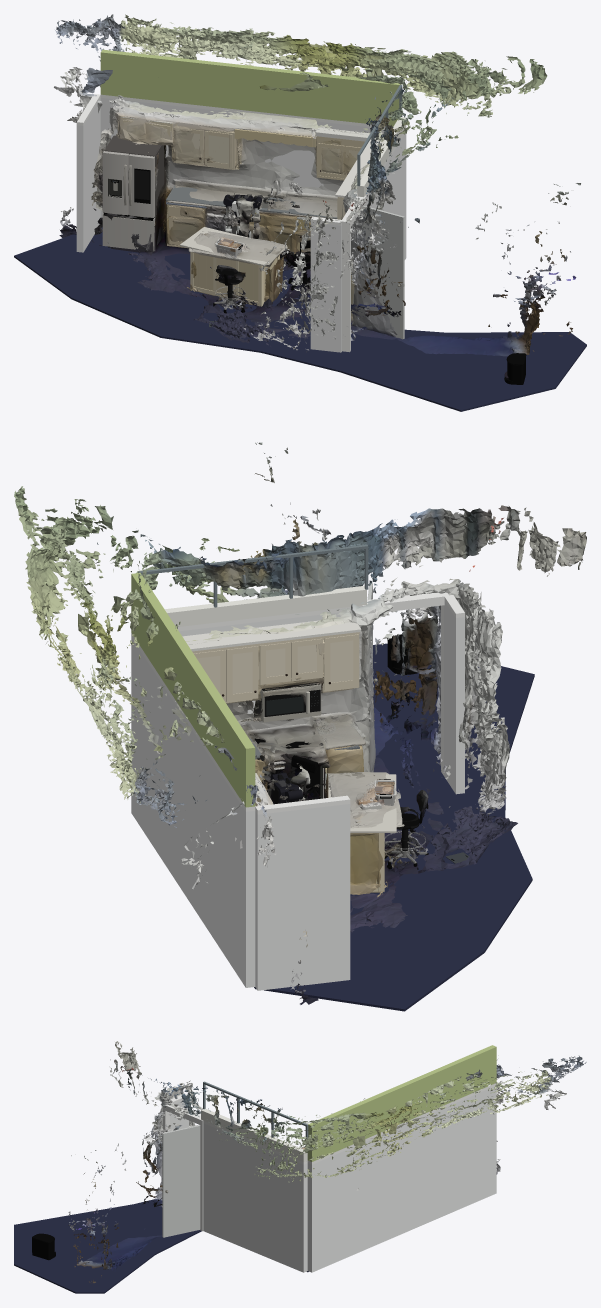
3 views of the same model, one above another, from view 1: azimuth 30°, elevation 25°; view 2: azimuth 150°, elevation 25°; view 3: azimuth 270°, elevation 25° (orthographic). The views are drawn at different scales.
Visible parts, largest first — view 1: static_scene, authored__0__18, authored__0__15, authored__0__4, authored__37__14, upper_cabinet_row_range_wall, authored__0__6, authored__0__17, kitchen_island, authored__0__14, authored__20__2, authored__20__23 (+15 smaller); view 2: static_scene, authored__0__18, authored__0__17, authored__0__6, authored__0__15, kitchen_island, authored__0__12, authored__0__4, authored__32__0, authored__32__11, authored__32__2, authored__32__3 (+8 smaller); view 3: authored__0__17, static_scene, authored__0__14, authored__0__18, authored__0__15, authored__37__14, authored__0__12, authored__0__16, authored__0__2, authored__0__11.
Boxes of the visible parts, x1,y1,x2,y2 form: static_scene: (54, 14, 580, 356); authored__0__18: (14, 227, 586, 411); authored__0__15: (100, 49, 401, 126); authored__0__4: (310, 222, 341, 352); authored__37__14: (358, 205, 404, 339); upper_cabinet_row_range_wall: (115, 107, 370, 219); authored__0__6: (76, 98, 100, 252); authored__0__17: (100, 98, 384, 217); kitchen_island: (187, 231, 287, 302); authored__0__14: (366, 133, 406, 259); authored__20__2: (102, 213, 154, 251); authored__20__23: (102, 151, 128, 215); static_scene: (14, 442, 586, 1004); authored__0__18: (254, 643, 534, 1011); authored__0__17: (131, 637, 255, 987); authored__0__6: (255, 804, 350, 990); authored__0__15: (131, 573, 255, 807); kitchen_island: (327, 772, 404, 897); authored__0__12: (165, 586, 366, 626); authored__0__4: (444, 601, 464, 794); authored__32__0: (182, 620, 361, 651); authored__32__11: (226, 646, 258, 701); authored__32__2: (324, 634, 358, 690); authored__32__3: (330, 640, 353, 682); authored__0__17: (307, 1086, 496, 1272); static_scene: (68, 1041, 586, 1283); authored__0__14: (203, 1123, 307, 1272); authored__0__18: (14, 1198, 308, 1293); authored__0__15: (307, 1045, 496, 1161); authored__37__14: (162, 1125, 200, 1237); authored__0__12: (201, 1108, 307, 1161); authored__0__16: (307, 1083, 495, 1164); authored__0__2: (200, 1125, 203, 1231); authored__0__11: (204, 1082, 306, 1126).
Size of the model in its own units: 8.14 by 3.77 by 11.69.
